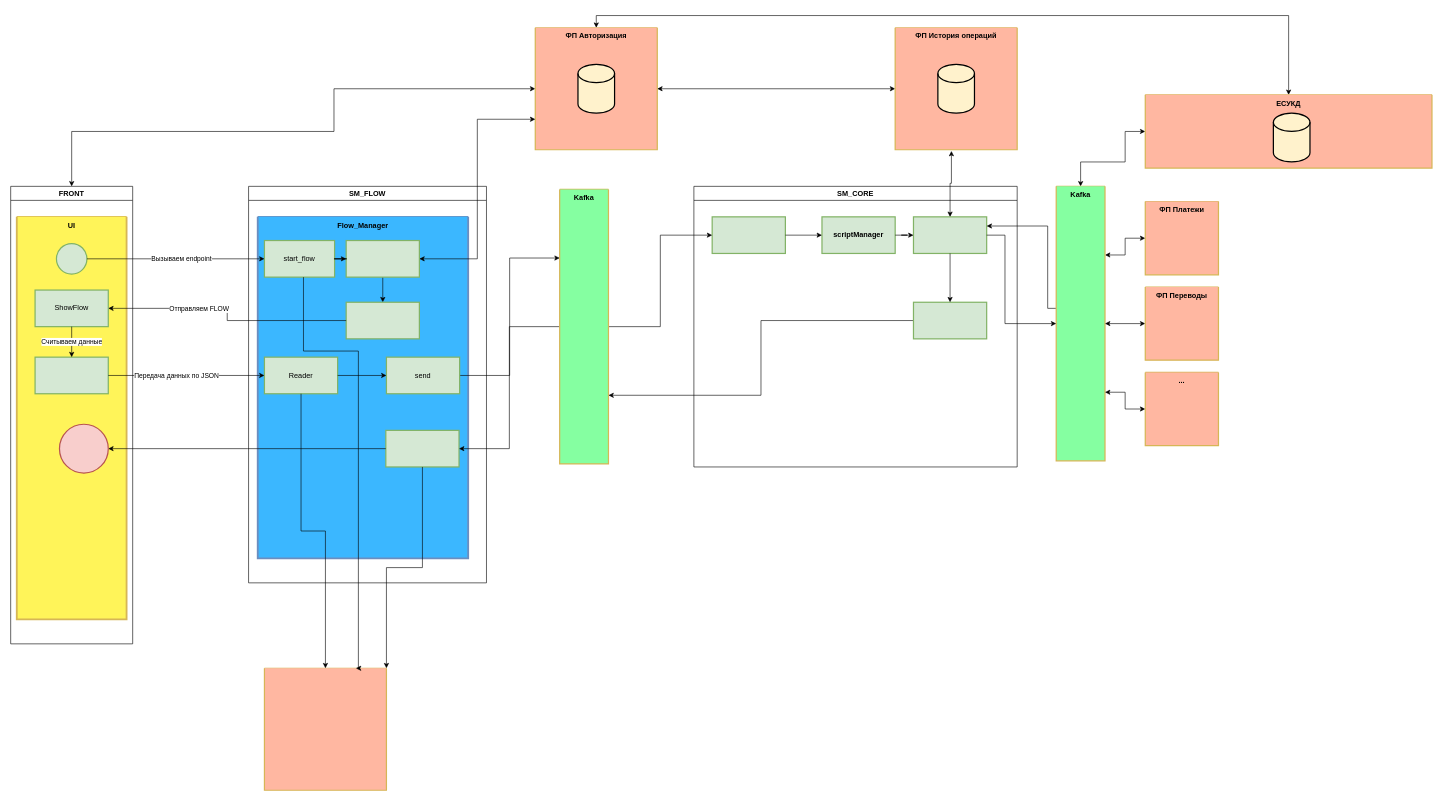
This 1443x802 diagram has some shape labels left out. The centre of each missing label's shape, as x and y in pixels:
checker: the point at 422,448
createFlowContainer: the point at 382,258
createScriptElement: the point at 71,375
createScriptEntity: the point at 748,235
ParseToJSON: the point at 382,320
scriptAdapter: the point at 950,235
START: the point at 71,258
Status: the point at 950,320
Аудирование: the point at 325,729
